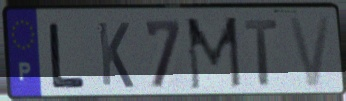7: (143, 17, 184, 92)
K: (95, 19, 136, 91)
L: (47, 21, 88, 90)
M: (184, 14, 244, 93)
T: (242, 17, 281, 89)
V: (286, 14, 334, 90)
